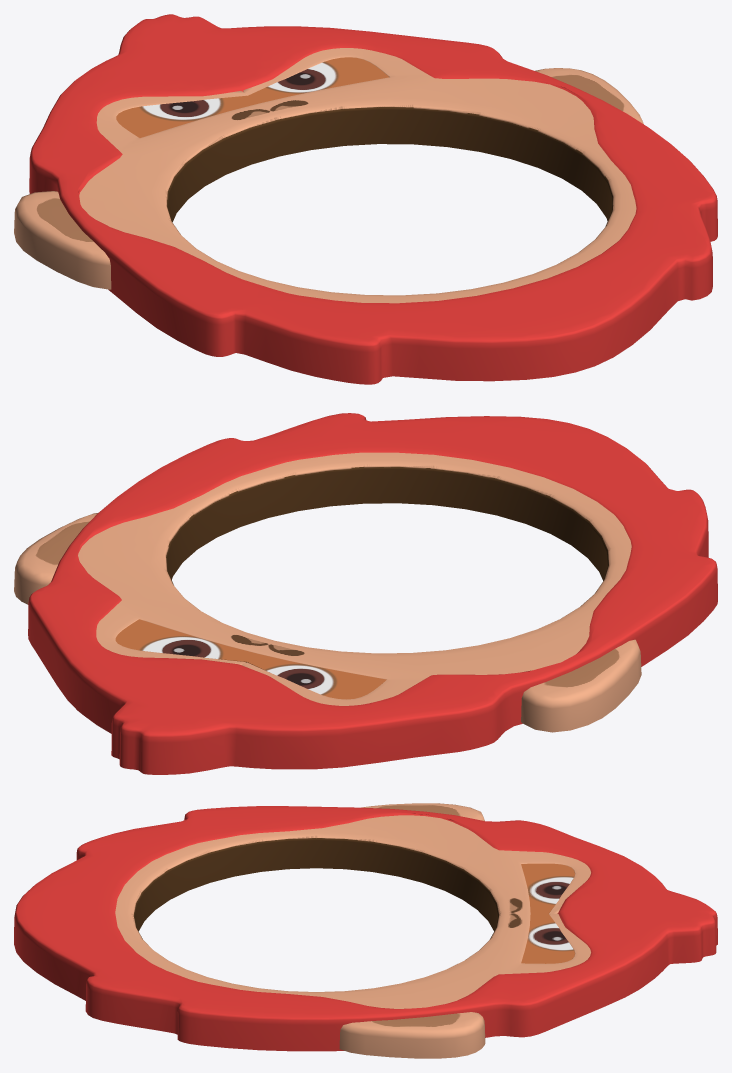
File: Kong.fbx
3 views of the same model, one above another, from view 1: azimuth 30°, elevation 25°; view 2: azimuth 150°, elevation 25°; view 3: azimuth 270°, elevation 25° (orthographic). The views are drawn at different scales.
Visible parts, largest first — view 1: hole, eye; view 2: hole, eye; view 3: hole, eye.
Boxes of the visible parts, x1,y1,x2,y2 form: hole: (14,14,717,384); eye: (116,57,388,137); hole: (14,413,717,774); eye: (115,619,386,699); hole: (14,803,717,1058); eye: (521,863,574,963).
Size of the model in its own units: 3.01 by 0.2083 by 3.85.
